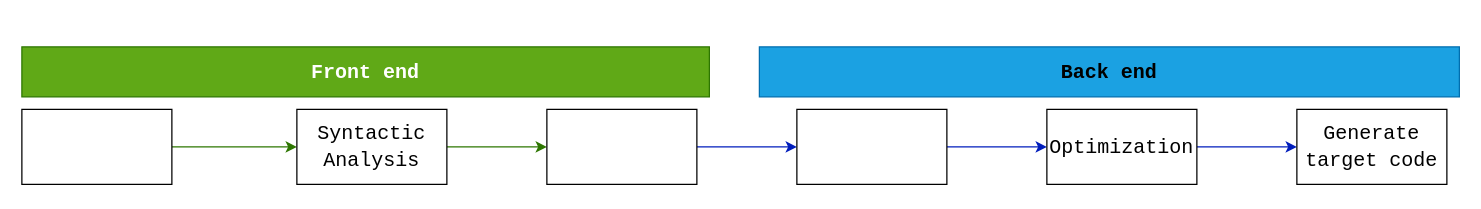
Some shapes in this 1481 by 209 pixel diagram are drawn without their labels. The centre of each missing label's shape, as x and y in pixels:
"Generate intermediate code" goes at [871,146].
"Lexical Analysis" goes at [96,146].
"Semantic Analysis" goes at [621,146].
